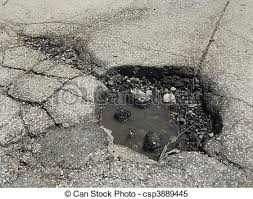pothole: (95, 63, 238, 164)
